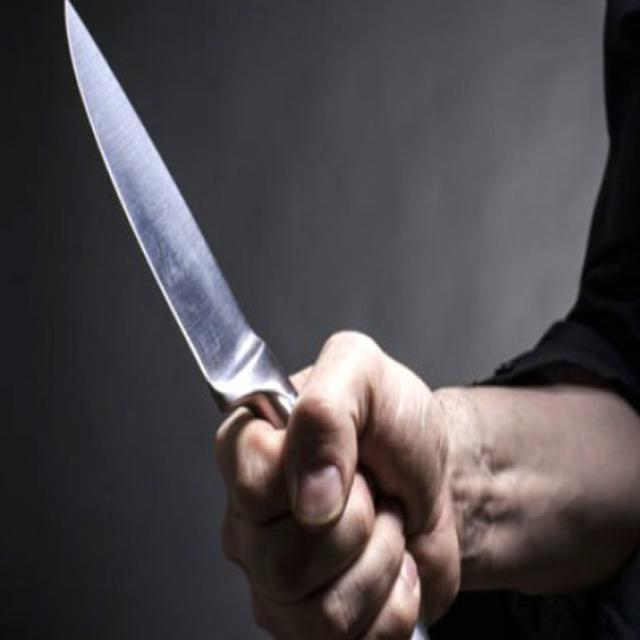knife: (61, 1, 303, 435)
